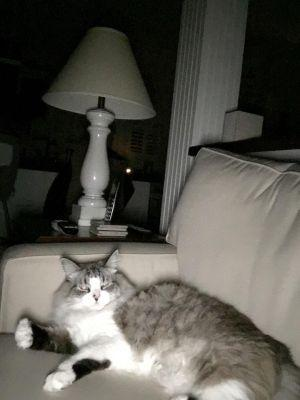ragdoll: (57, 245, 135, 320)
